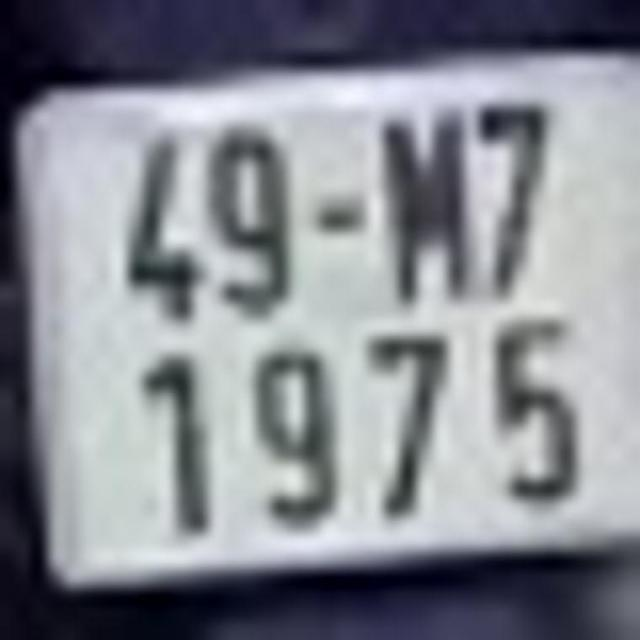1: (142, 354, 207, 535)
4: (125, 135, 203, 324)
5: (491, 321, 580, 506)
7: (366, 333, 451, 520), (478, 104, 546, 299)
9: (210, 129, 296, 322), (256, 347, 343, 528)
M: (381, 107, 475, 304)
